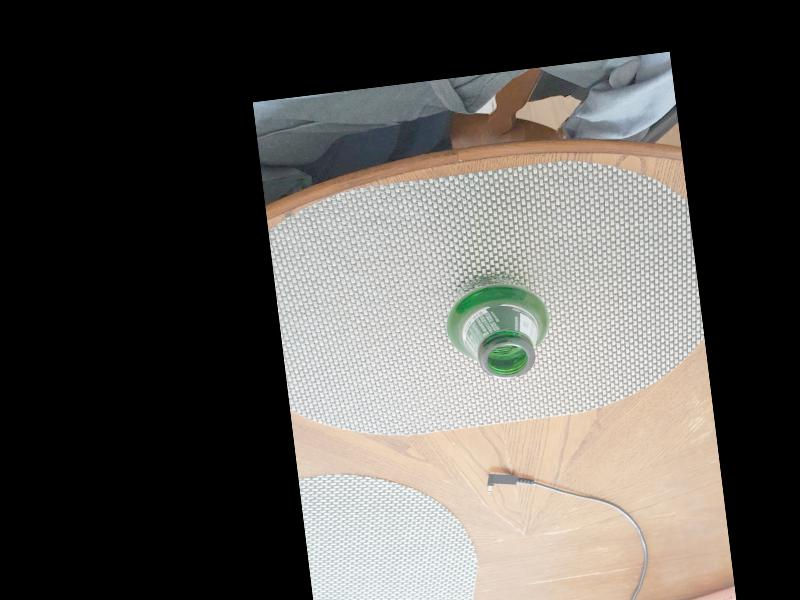Beer: (445, 269, 549, 383)
